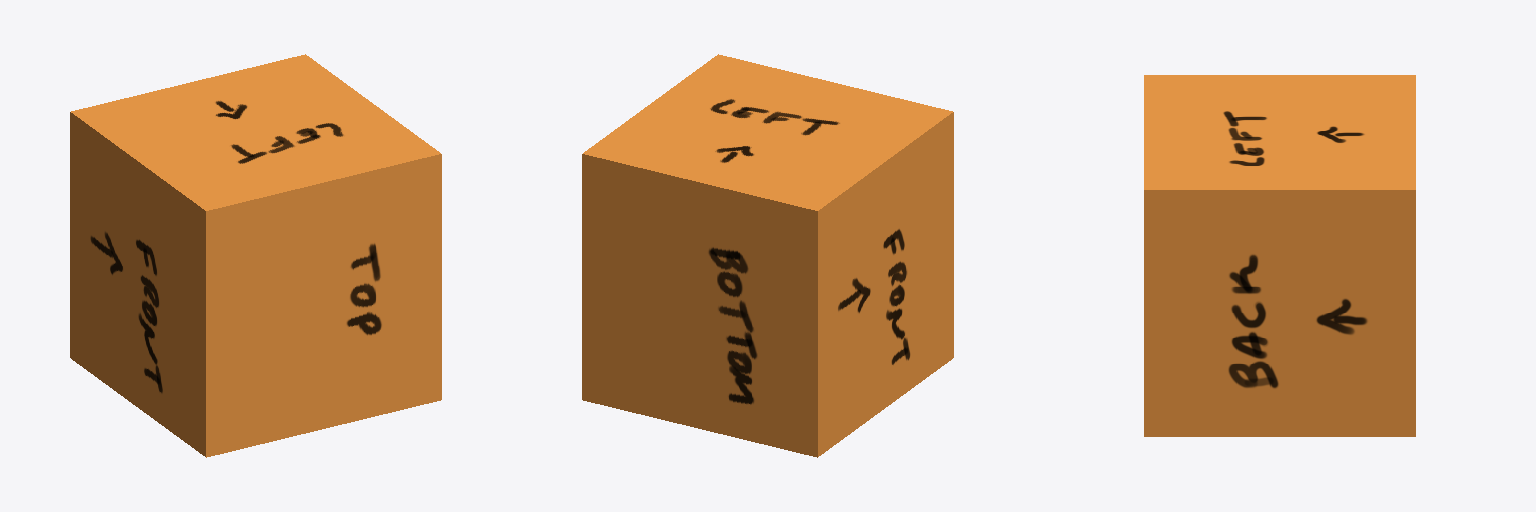
The picture shows the model from 3 angles: view 1: azimuth 30°, elevation 25°; view 2: azimuth 150°, elevation 25°; view 3: azimuth 270°, elevation 25°; orthographic projection.
Parts seen in each view (by area): view 1: Cube; view 2: Cube; view 3: Cube.
Part boxes in pixels (bbox=[...]): Cube: bbox=[70, 54, 441, 457]; Cube: bbox=[582, 54, 953, 457]; Cube: bbox=[1144, 75, 1415, 436].
Bounding box in the file's own units: 2 × 2 × 2.
1 materials, 1 textured.